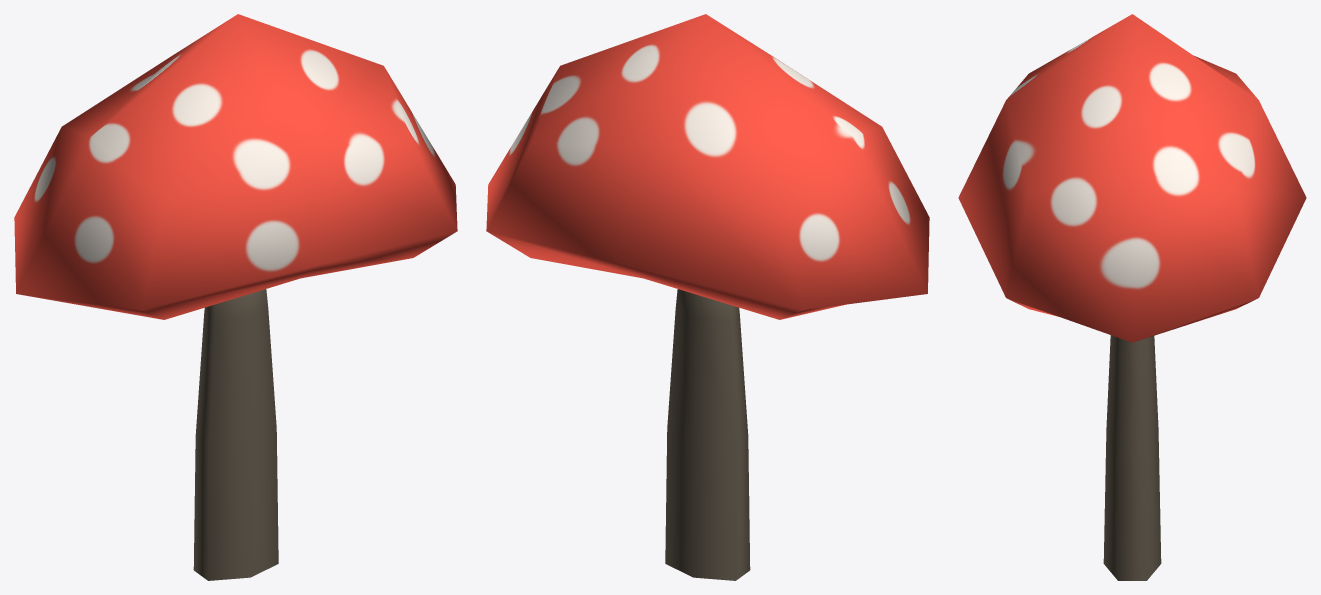
The model's file is Mushroom.glb.
3 renders of one model, left to right at view 1: azimuth 30°, elevation 25°; view 2: azimuth 150°, elevation 25°; view 3: azimuth 270°, elevation 25°, orthographic.
Visible parts, largest first — view 1: Cube, Cylinder; view 2: Cube, Cylinder; view 3: Cube, Cylinder.
Boxes of the visible parts, x1,y1,x2,y2 form: Cube: [14, 14, 457, 319]; Cylinder: [193, 289, 278, 580]; Cube: [486, 14, 929, 319]; Cylinder: [665, 289, 750, 580]; Cube: [958, 14, 1306, 342]; Cylinder: [1103, 335, 1161, 580].
Size of the model in its own units: 2.44 by 2.93 by 1.68.
2 materials, 1 textured.
